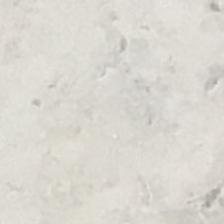Non_Crack: (2, 7, 224, 220)
